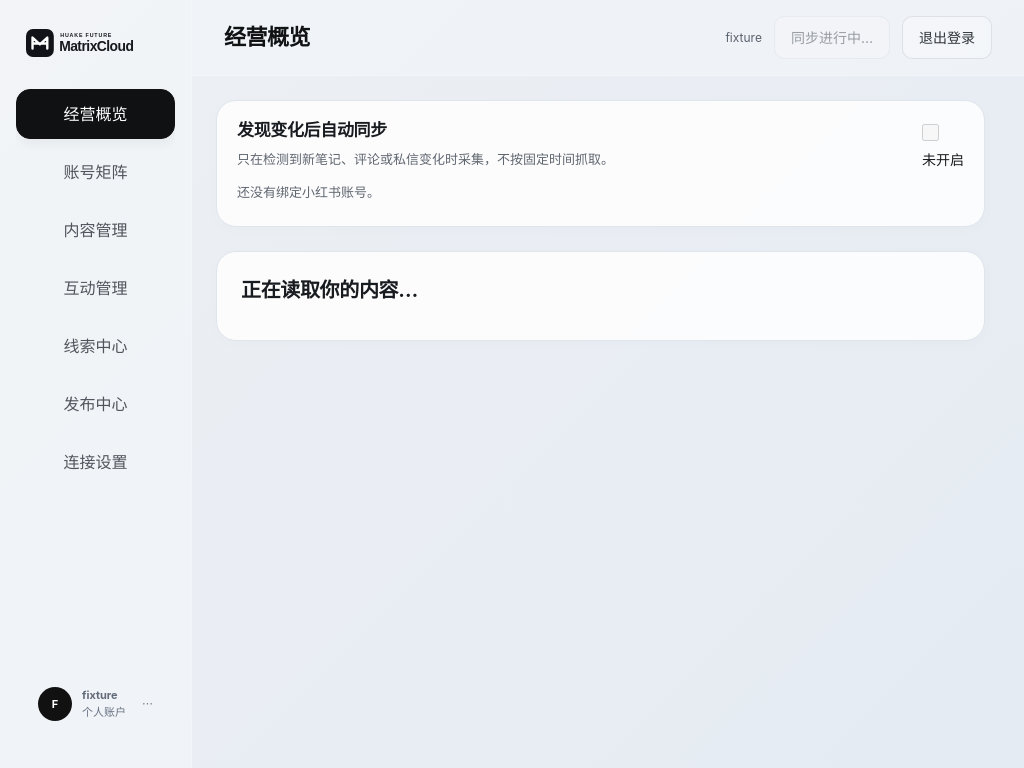
Scenario: shows an offline bound account without claiming it is connected
Click the button "账号矩阵" at (96, 172), box [16,147,175,197]
(page scrolled)
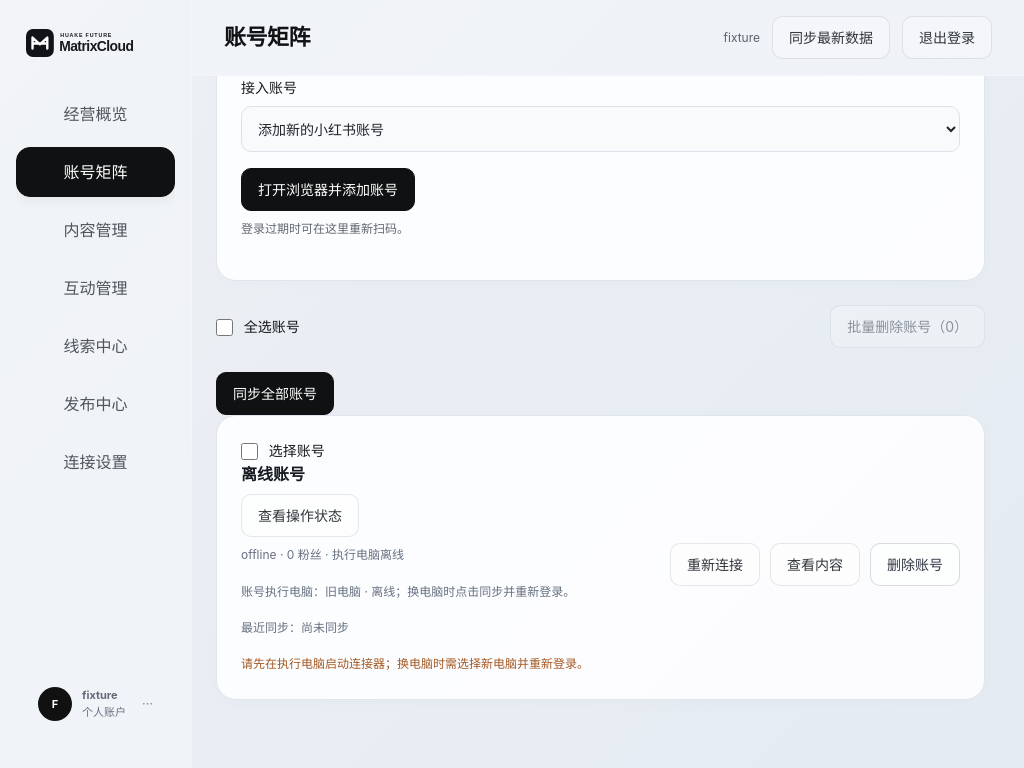
Expected: the text "offline · 0 粉丝 · 执行电脑离线" is shown, [241,547,404,562]
Expected: the text "请先在执行电脑启动连接器；换电脑时需选择新电脑并重新登录。" is shown, [241,654,589,675]
Expected: the button "重新连接" is shown, [670,543,760,586]
